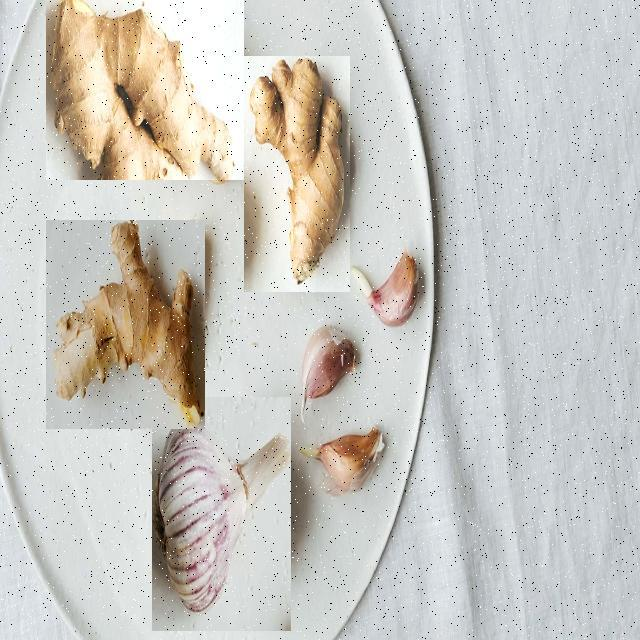garlic: (152, 397, 291, 631)
ginger: (46, 0, 244, 180), (46, 220, 205, 429), (244, 57, 350, 293)
